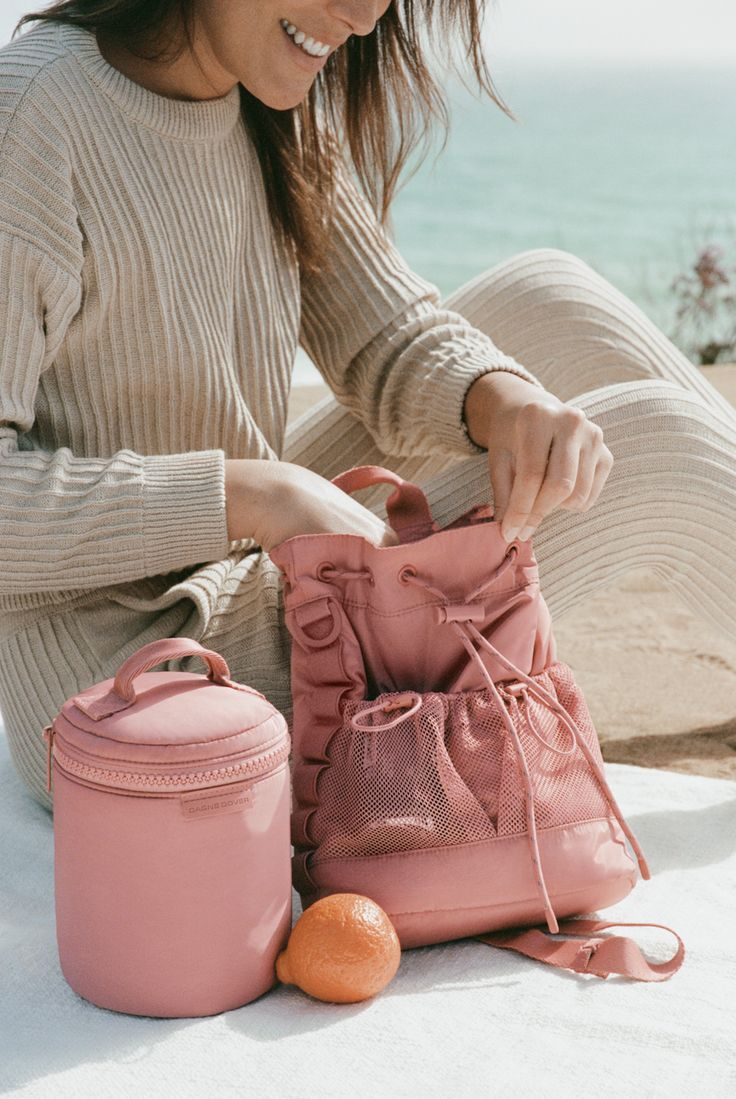nylon: (54, 467, 685, 1021)
